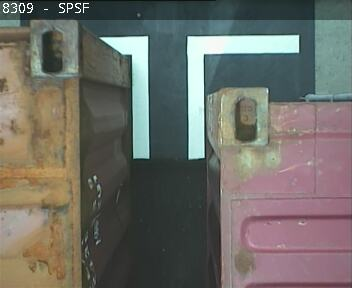groundmarker_1: (94, 34, 301, 160)
